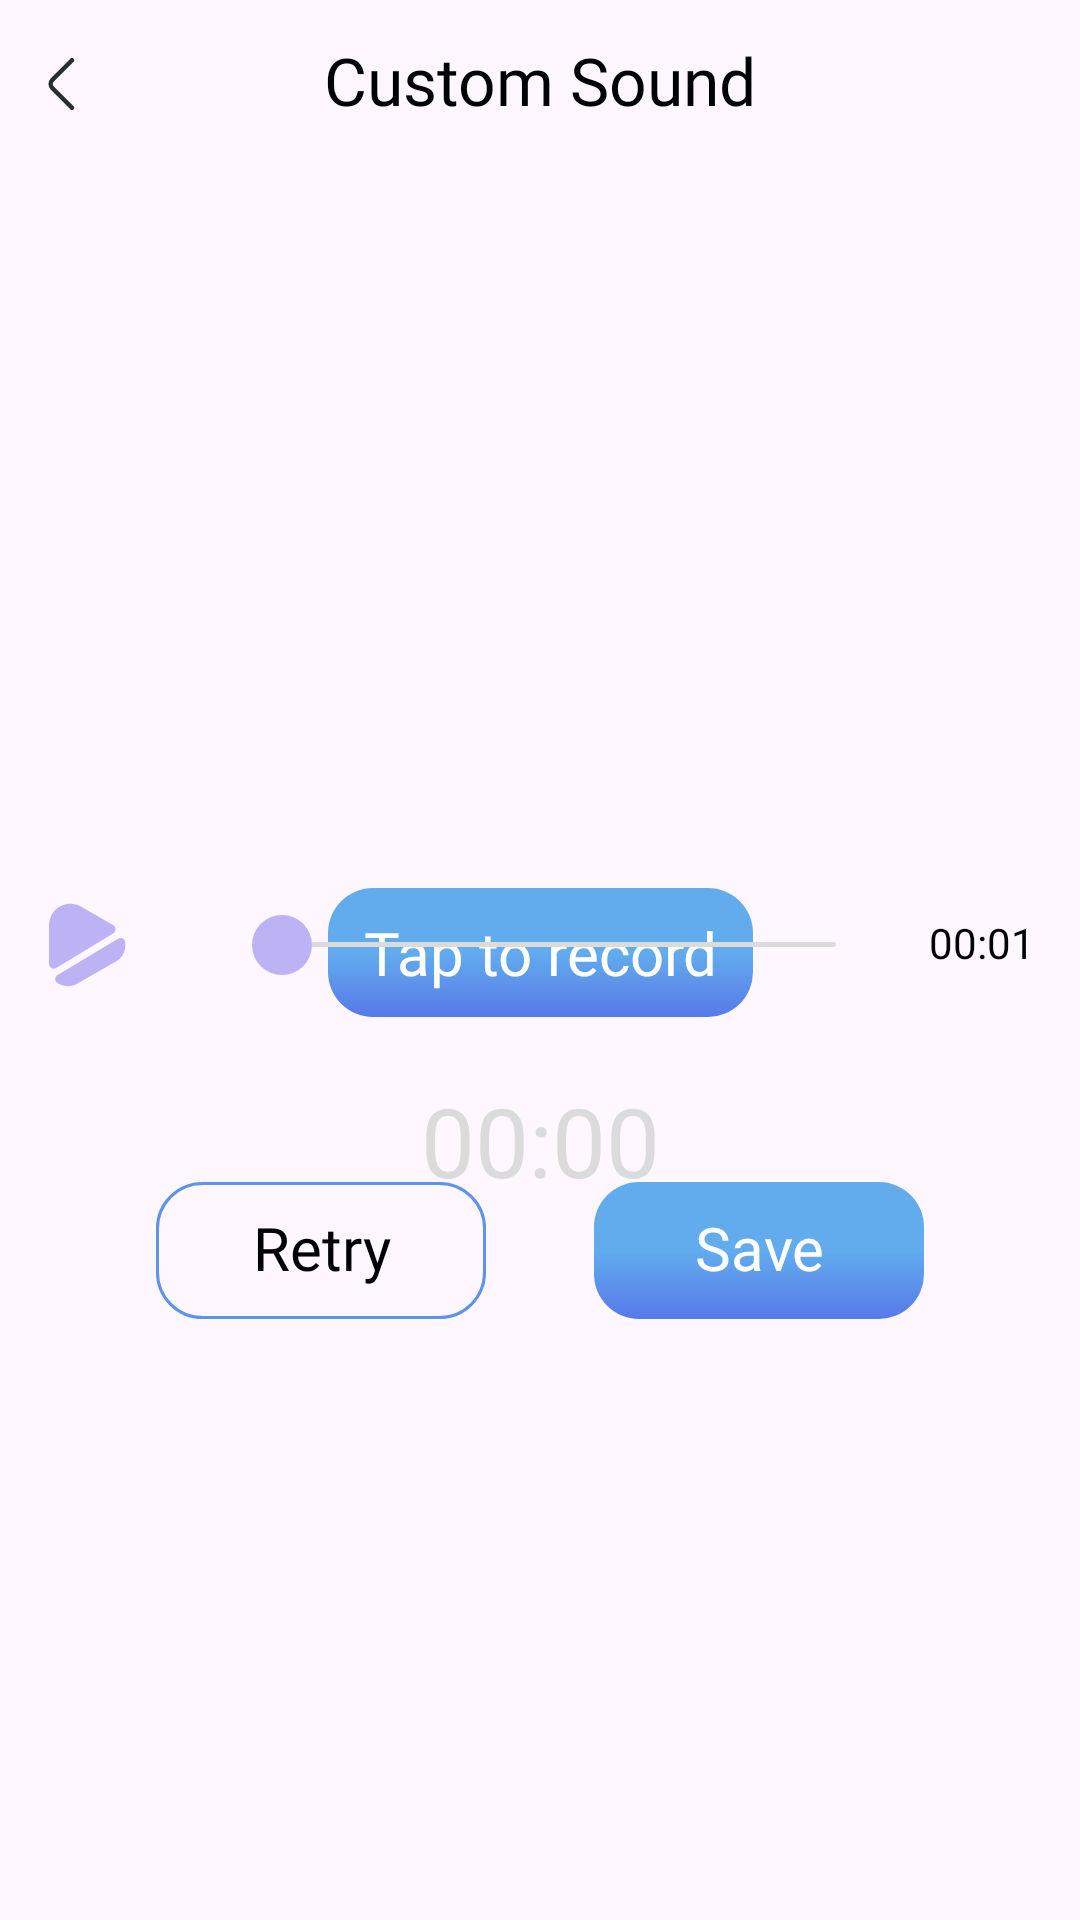

Screen size 1080*1920. Icon name, then its box in pixels as (x1, y1, x2, y2):
back: (48, 58, 75, 110)
resume: (49, 904, 125, 986)
